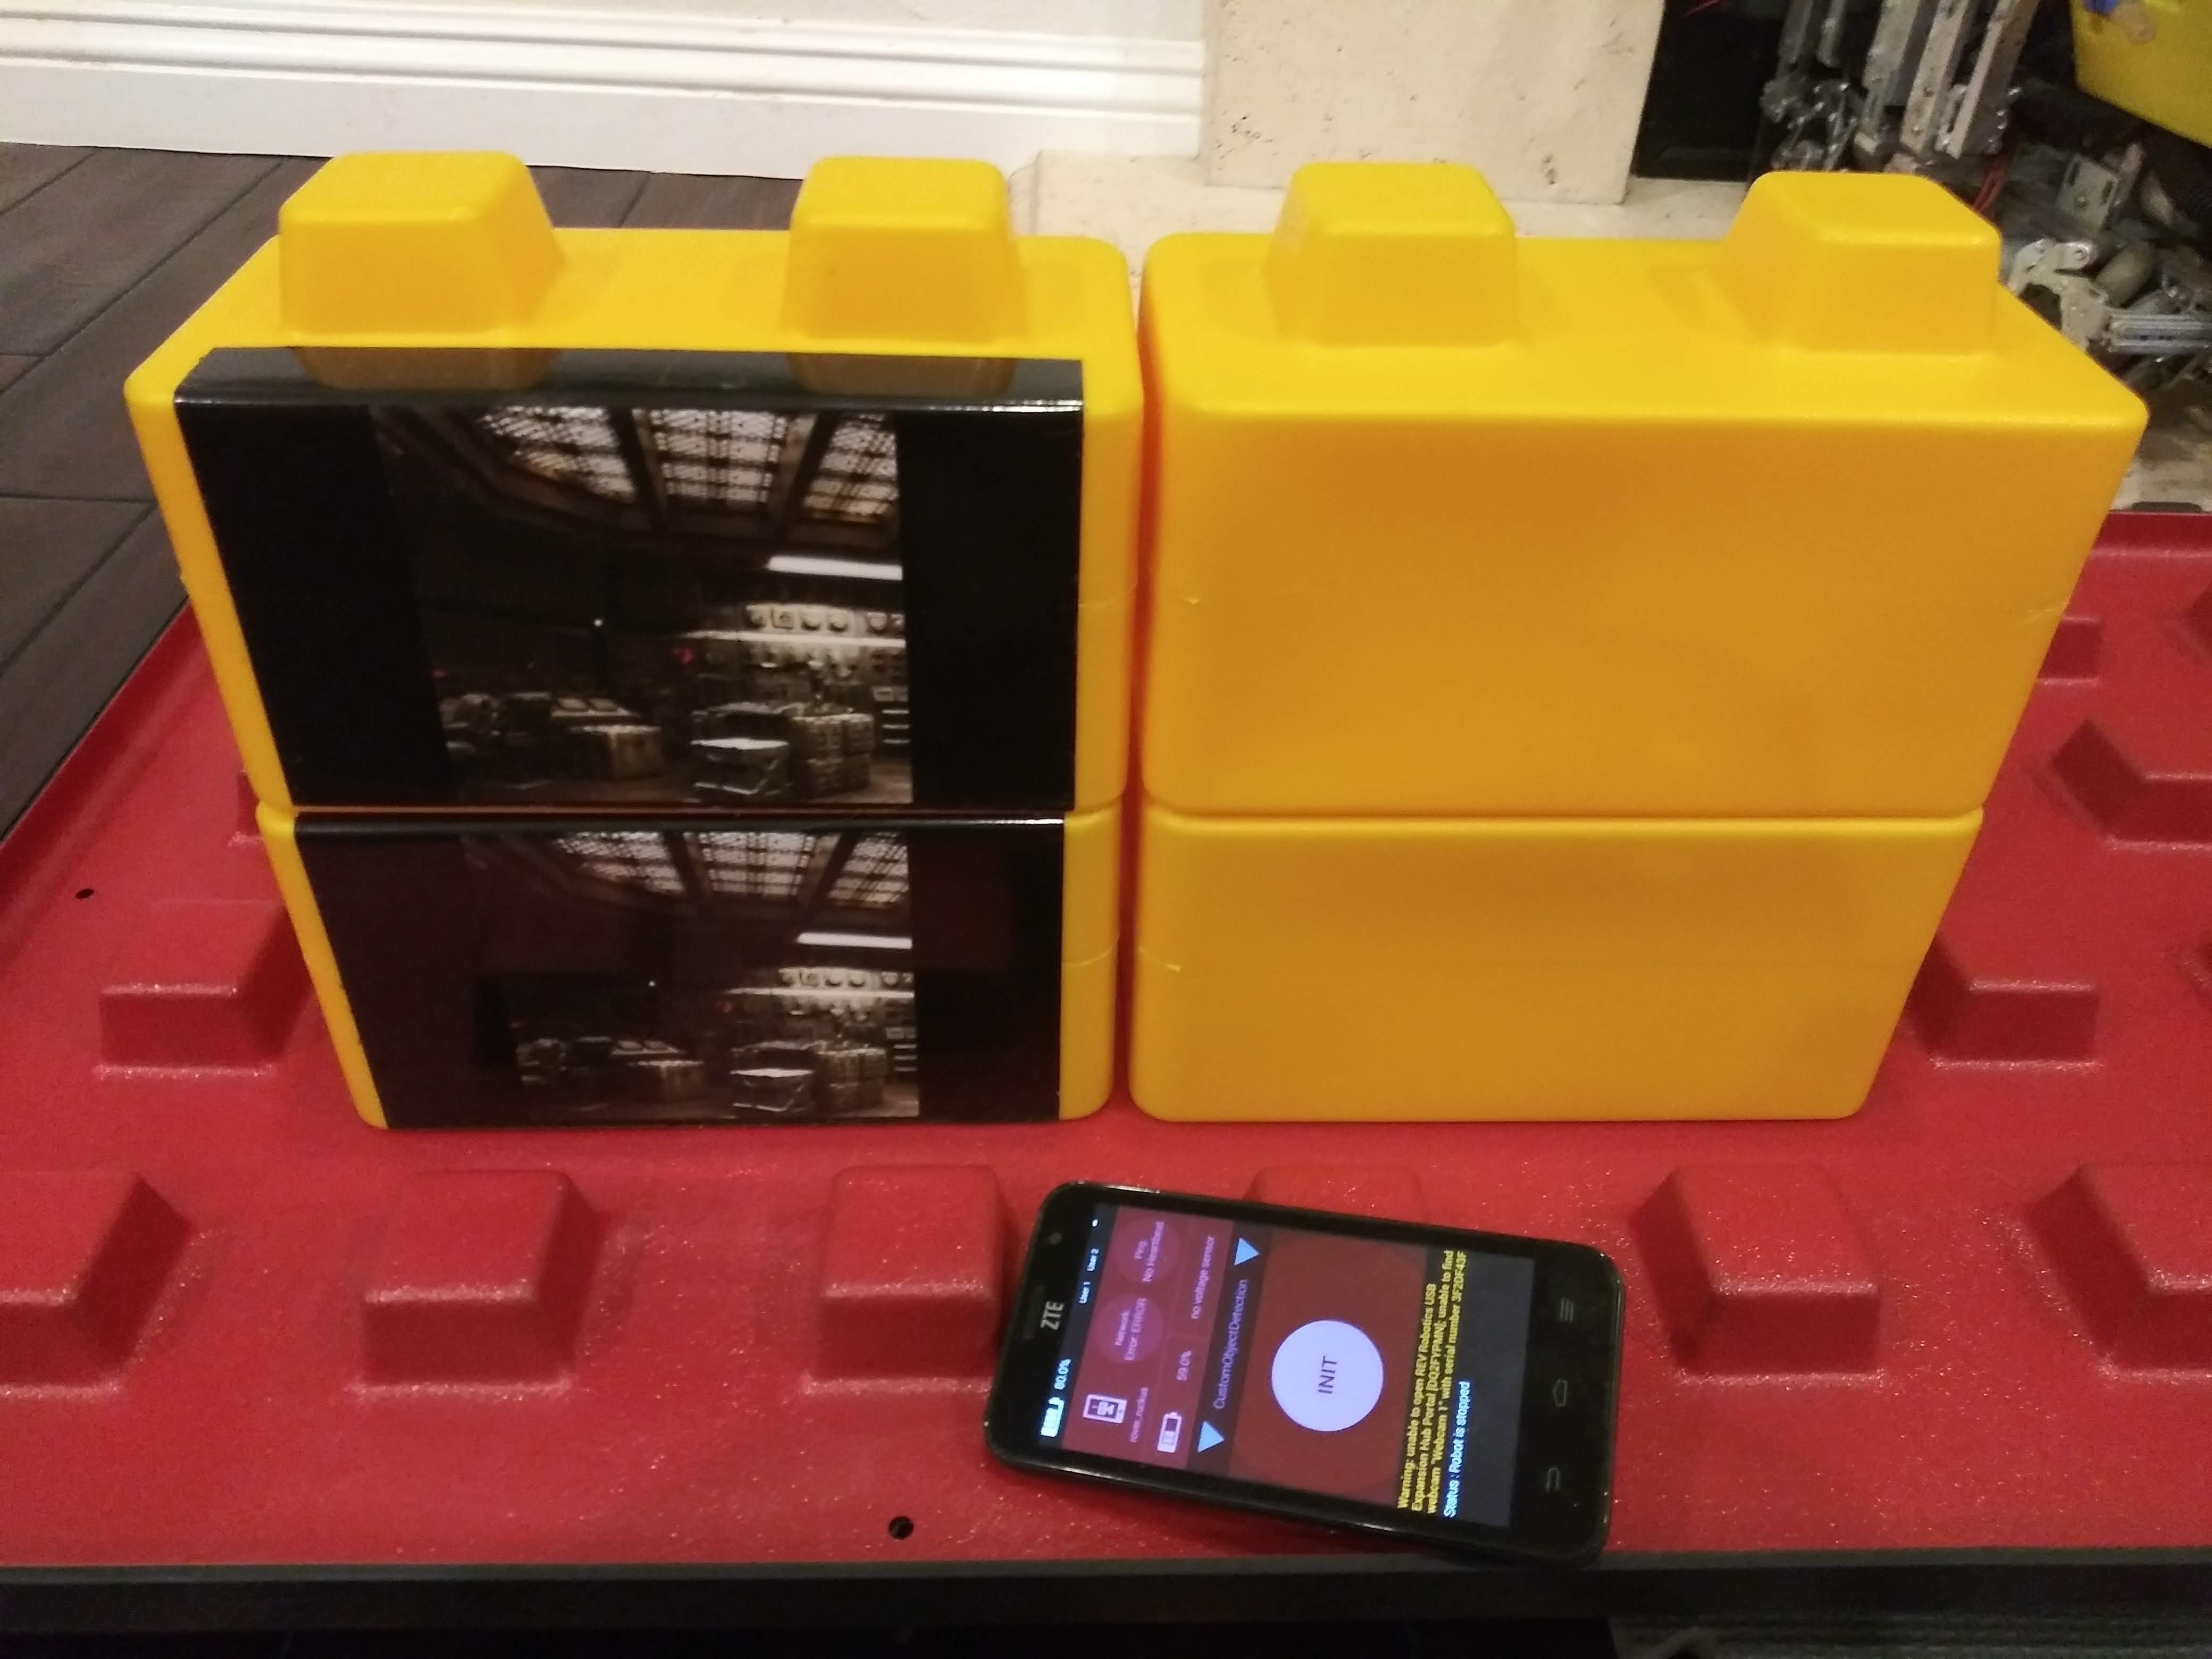skystone: (145, 270, 1108, 796), (200, 833, 1113, 1147)
stone: (1177, 261, 2024, 816), (1151, 850, 1963, 1164)
